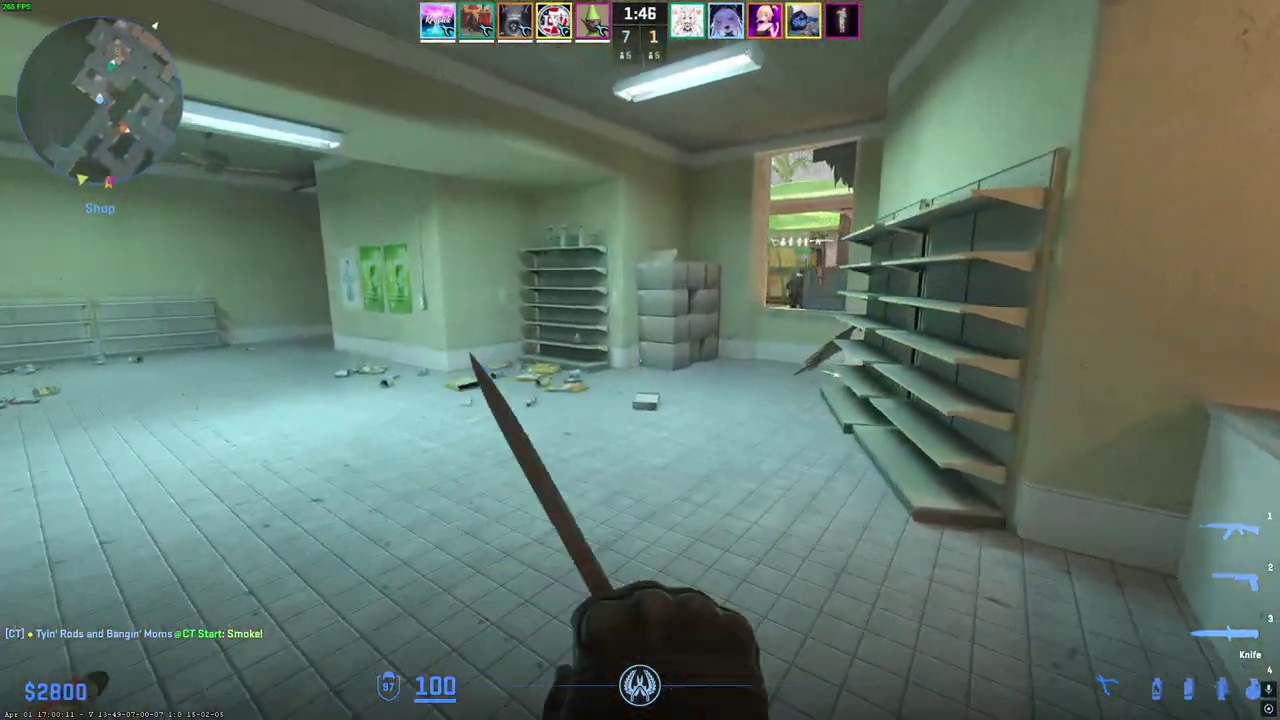CT: (786, 268, 804, 309)
